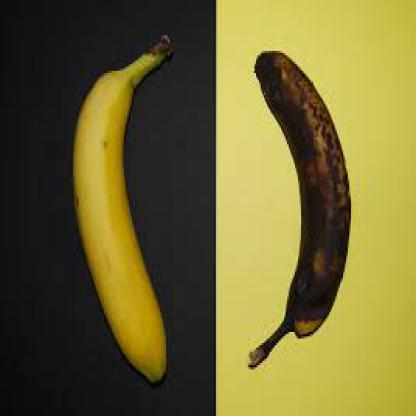banana_rotten: (239, 33, 368, 381)
